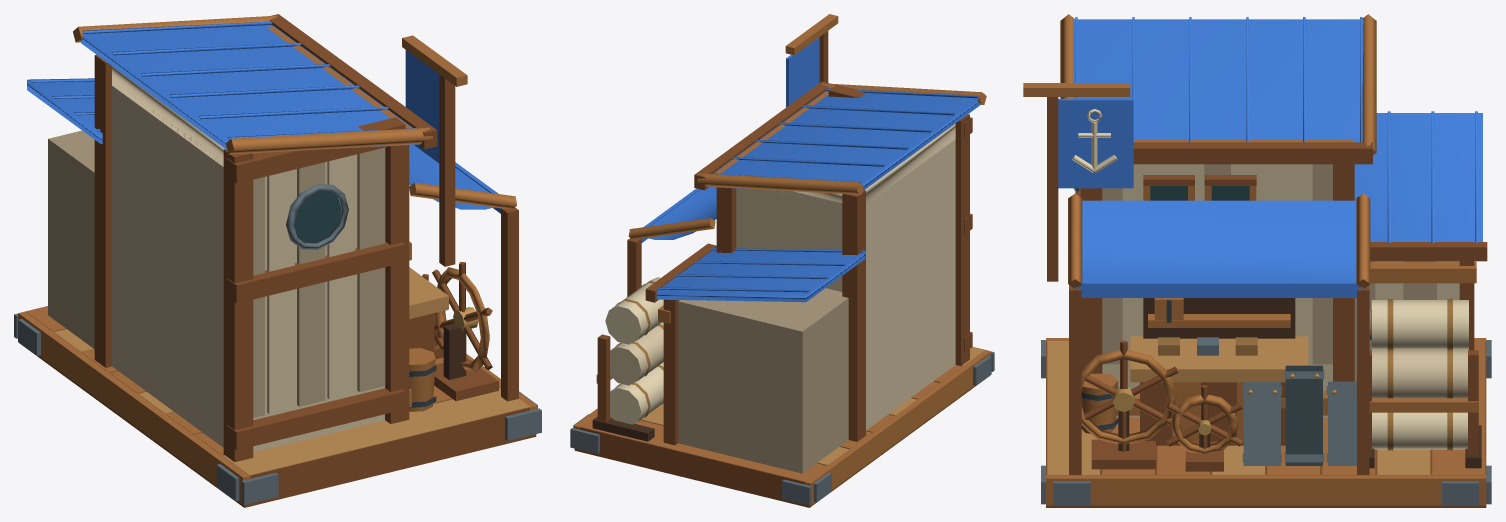
3 views of the same model, side by side, from view 1: azimuth 30°, elevation 25°; view 2: azimuth 150°, elevation 25°; view 3: azimuth 270°, elevation 25° (orthographic). The views are drawn at different scales.
Visible parts, largest first — view 1: shop.main.body, roof.main, annex.body, frame.back.post.left, base.frontback.-1, base.solid, deck.plank.0, wall.left.board.4, frame.front.post.left, wall.left.board.1, frame.back.post.right, wall.left.board.3 (+35 smaller); view 2: annex.body, shop.main.body, roof.main, roof.annex, frame.back.post.right, base.frontback.-1, base.side.1, frame.back.post.left, base.solid, annex.post.0.62, roof.right.fascia, sails.roll.1 (+25 smaller); view 3: roof.main, awning.cloth, roof.annex, base.frontback.1, banner.cloth, counter.top, roof.front.fascia, awning.front.valance, sails.roll.2, sails.roll.1, shop.opening, deck.plank.0 (+55 smaller).
Part boxes in pixels (x1,y1,x2,y2): shop.main.body: (112,86,384,452); roof.main: (80,25,420,149); annex.body: (48,130,94,349); frame.back.post.left: (223,149,253,462); base.frontback.-1: (18,311,250,505); base.solid: (21,344,536,507); deck.plank.0: (223,387,529,475); wall.left.board.4: (357,147,385,391); frame.front.post.left: (385,145,409,423); wall.left.board.1: (267,169,294,413); frame.back.post.right: (94,54,111,367); wall.left.board.3: (327,155,355,399); annex.body: (678,288,848,473); shop.main.body: (736,139,955,430); roof.main: (707,91,980,191); roof.annex: (656,250,865,302); frame.back.post.right: (842,190,865,441); base.frontback.-1: (804,350,991,505); base.side.1: (579,427,804,498); frame.back.post.left: (955,114,969,366); base.solid: (574,376,989,507); annex.post.0.62: (663,299,679,445); roof.right.fascia: (697,173,863,194); sails.roll.1: (610,322,663,385); roof.main: (1073,19,1363,142); awning.cloth: (1082,200,1356,281); roof.annex: (1354,113,1482,241); base.frontback.1: (1046,475,1486,505); banner.cloth: (1058,98,1133,188); counter.top: (1130,336,1308,382); roof.front.fascia: (1133,142,1372,164); awning.front.valance: (1075,281,1363,297); sails.roll.2: (1371,300,1468,349); sails.roll.1: (1372,350,1468,398); shop.opening: (1143,298,1295,338); deck.plank.0: (1047,341,1099,475).
Size of the model in its own units: 1.06 by 1.3 by 1.45.
